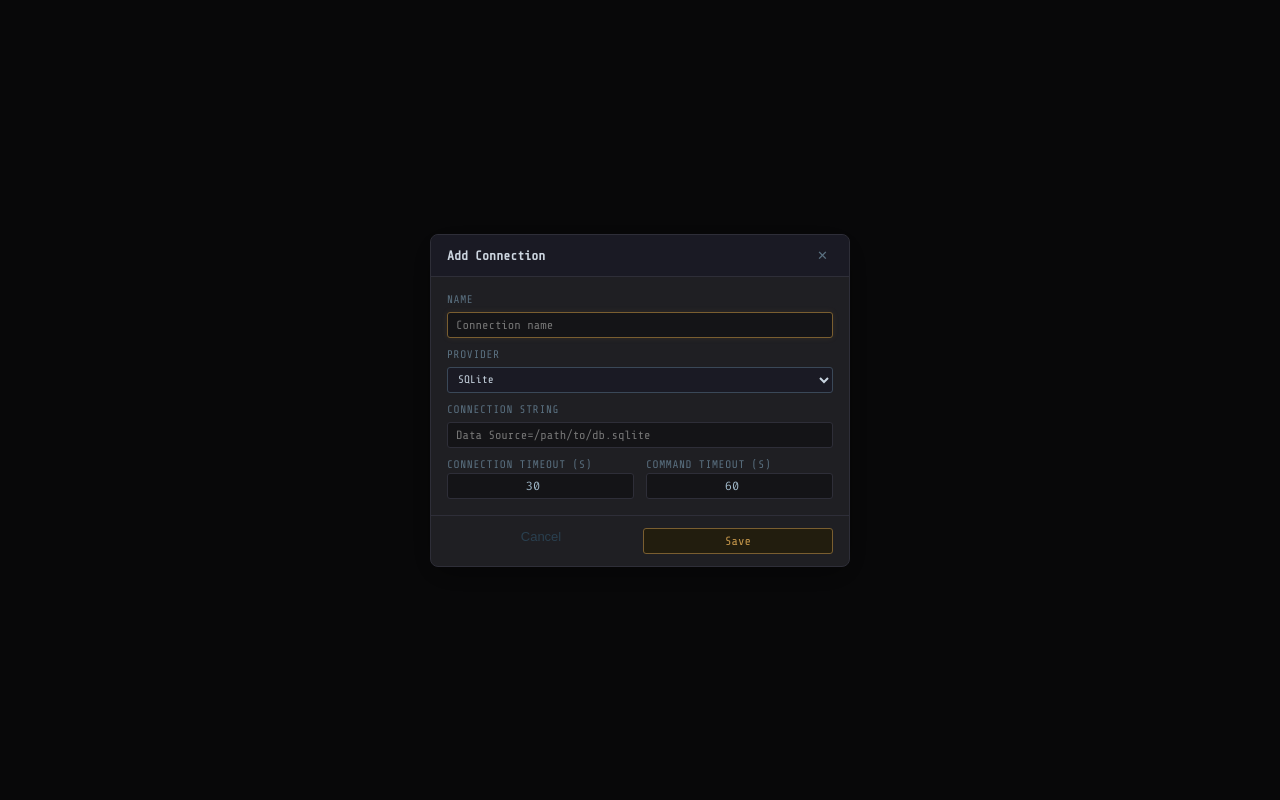
it: DbConnectionDialog › shows error for duplicate connection name
Type "TestDB" into the field with placeholder "Connection name".
click(640, 324); type("TestDB")  # box [447,312,833,338]
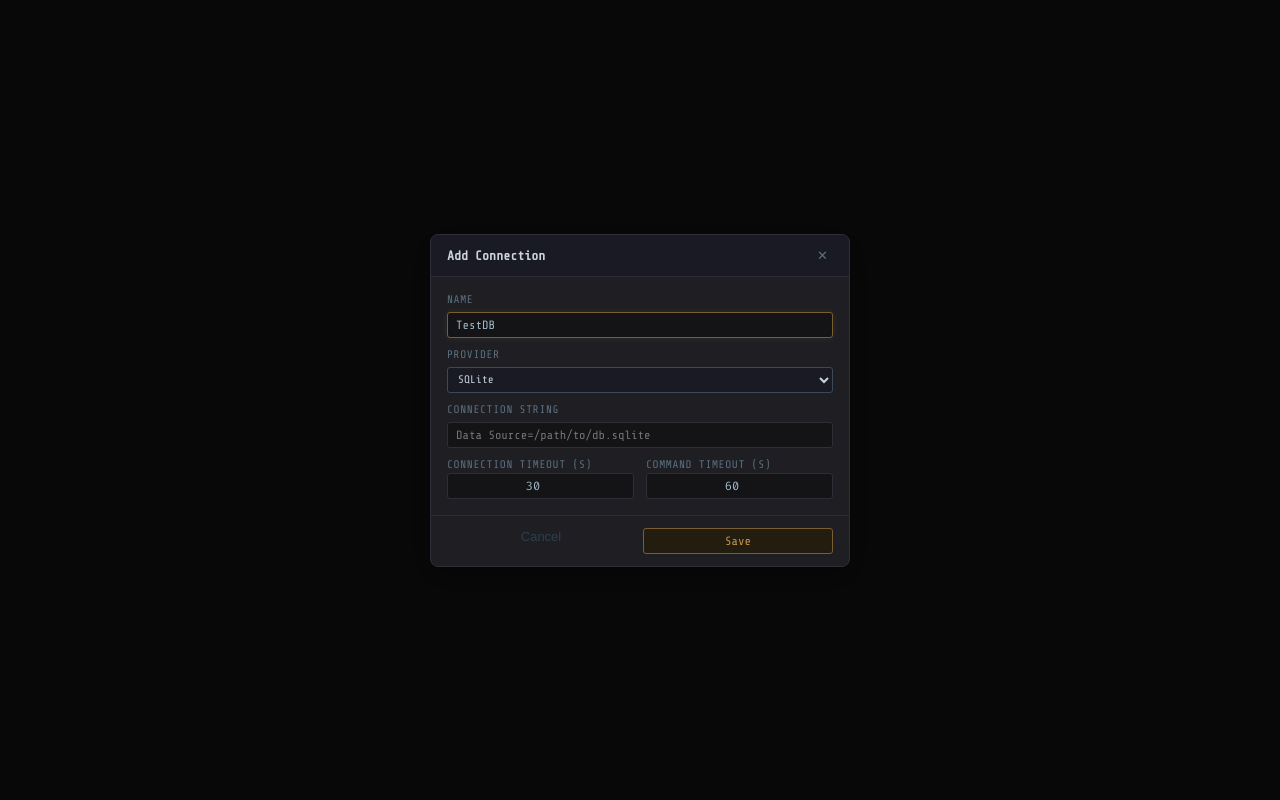
Type "something" into the field with placeholder "Data Source=/path/to/db.sqlite".
click(640, 434); type("something")  # box [447,422,833,448]
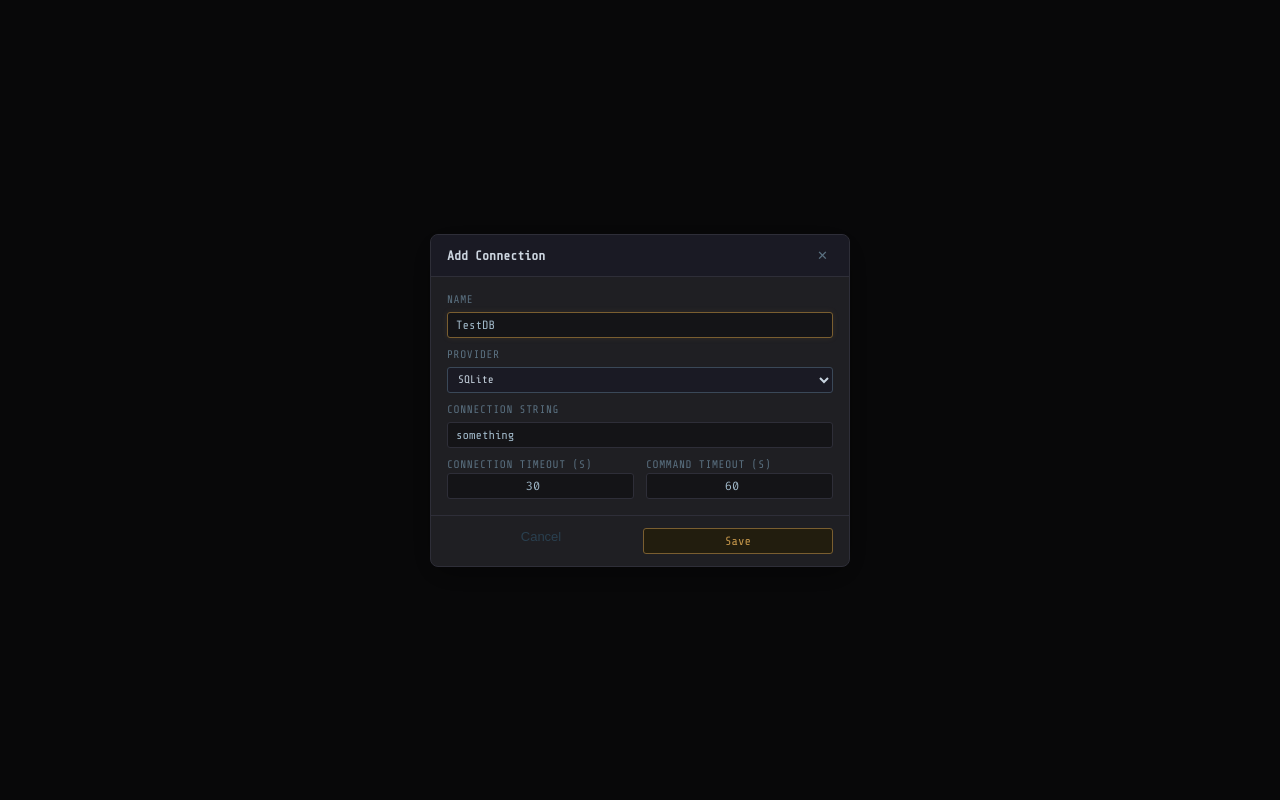
Click the button "Save".
click(738, 540)  # box [643,528,833,554]
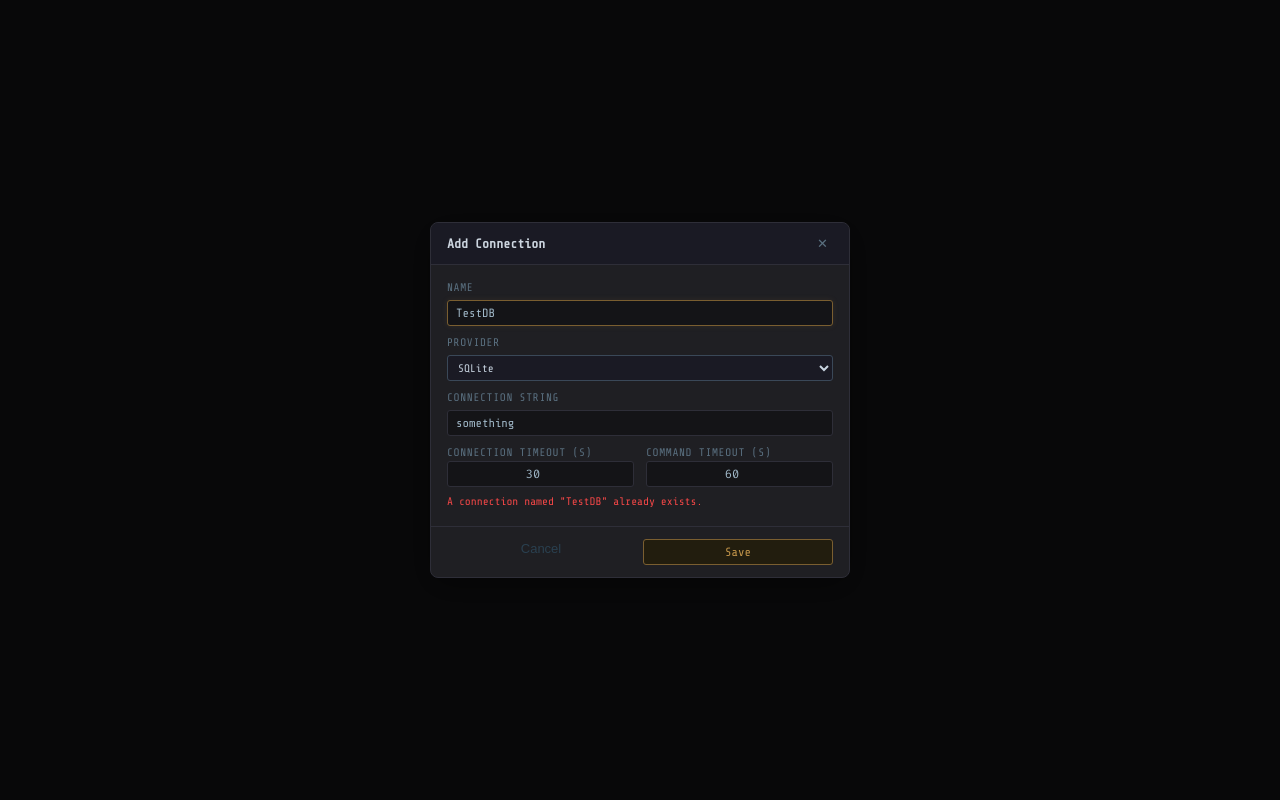
expect the text "A connection named \"TestDB\" already exists." is shown: met, box [447,495,702,508]
